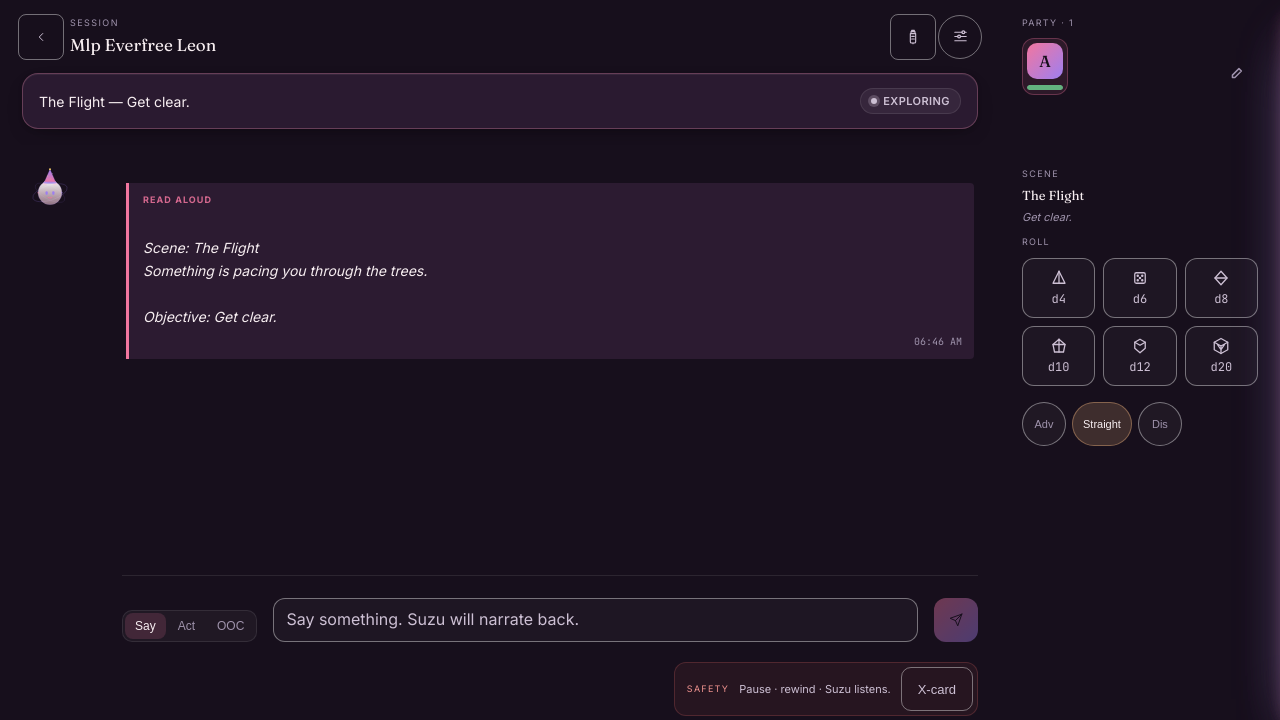
Scenario: A5 — revealText prefers-reduced-motion short-circuit (hooks/useNarration.ts) › shows the WHOLE buffered beat the instant the chunk arrives, before `done` finalizes it and before any fake-timer tick, when prefers-reduced-motion is set
Type "I look around." into the text box at {"x": 596, "y": 620}, box [273,598,918,642]
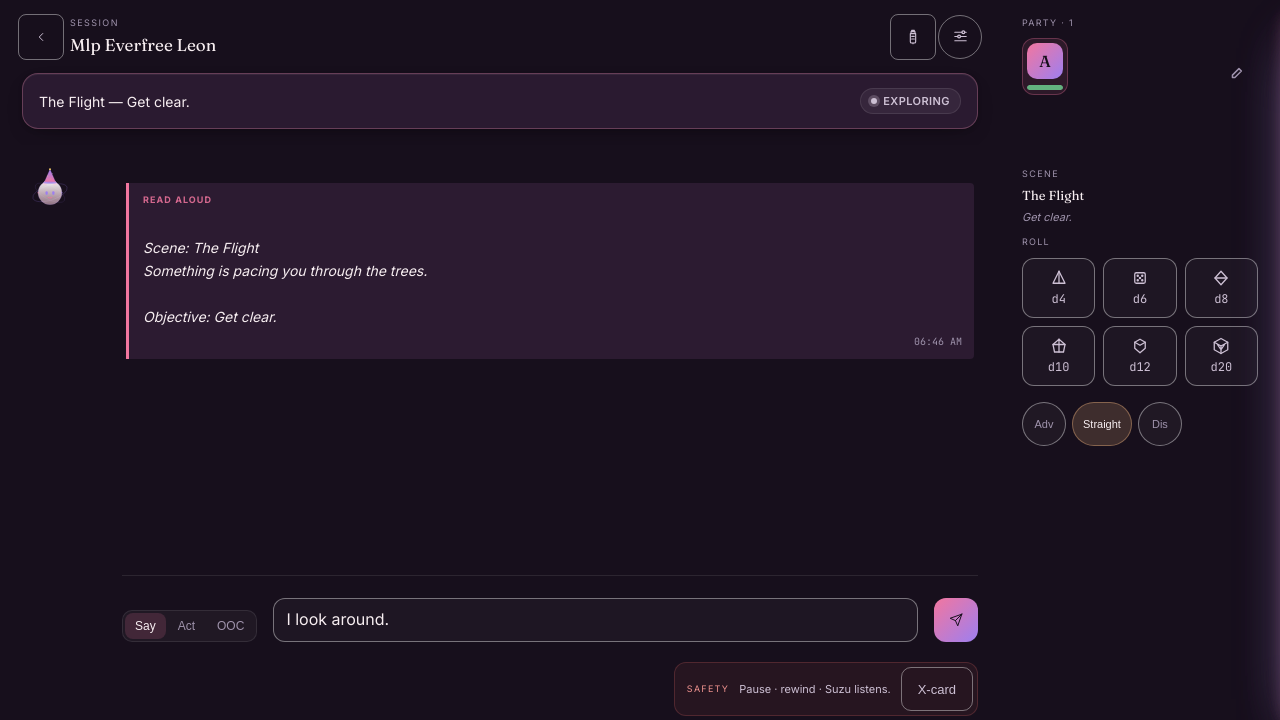
Press Enter in the text box, box [273,598,918,642]
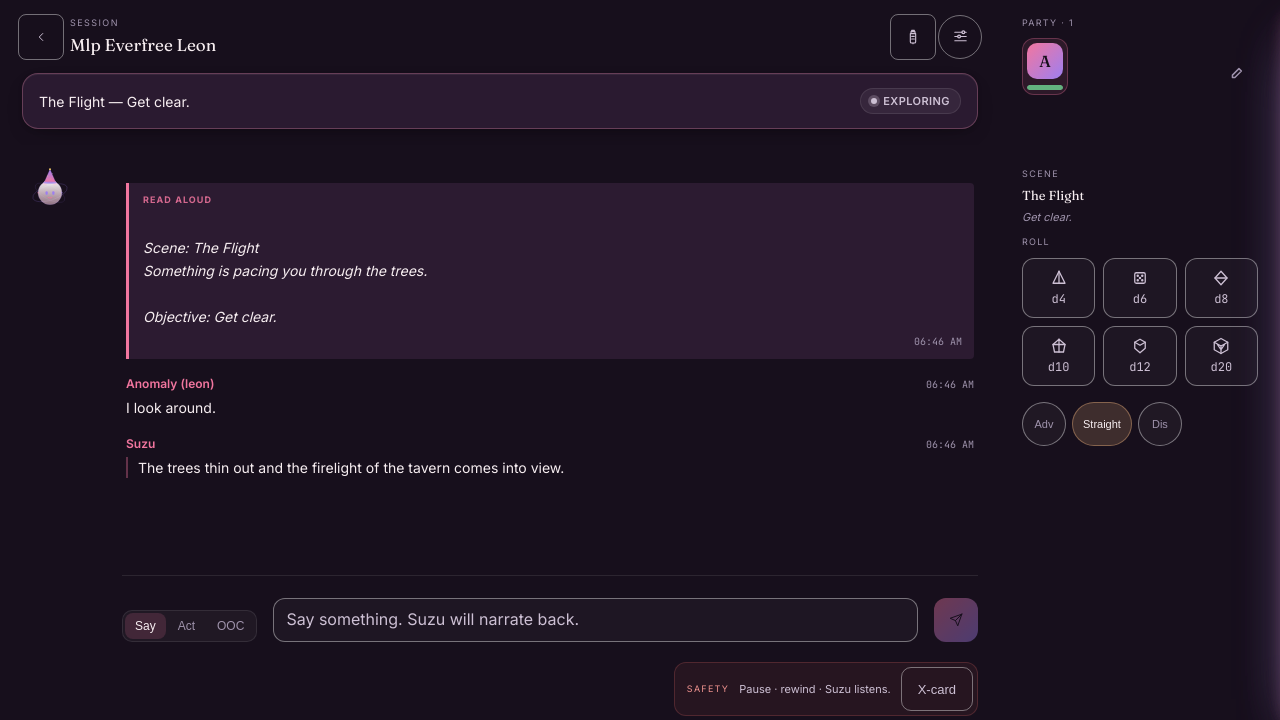
Result: the text "The trees thin out and the firelight of the tavern comes into view." is shown at [126,457,974,478]
